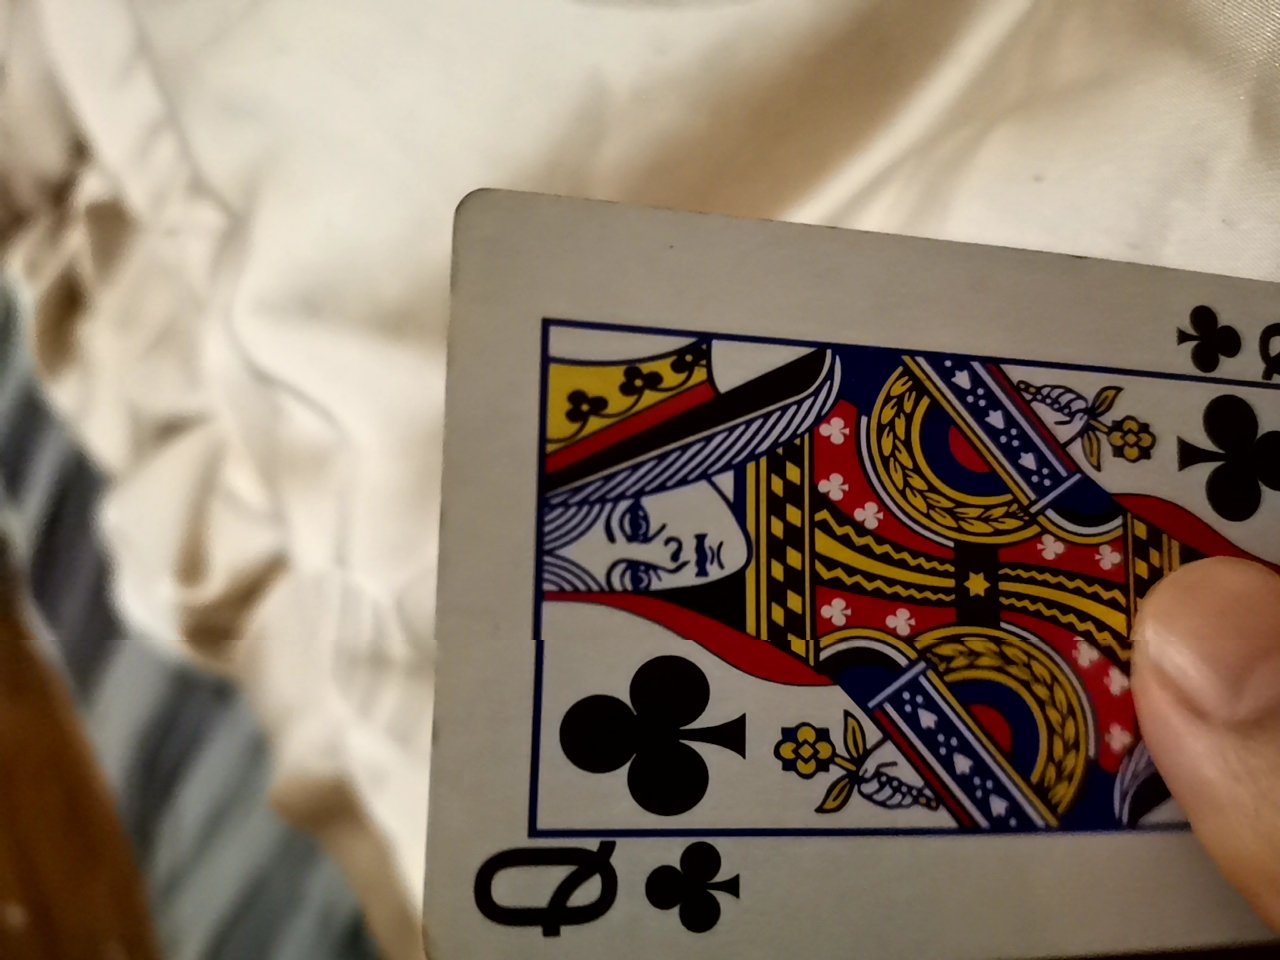mh q: (378, 189, 1263, 954)
